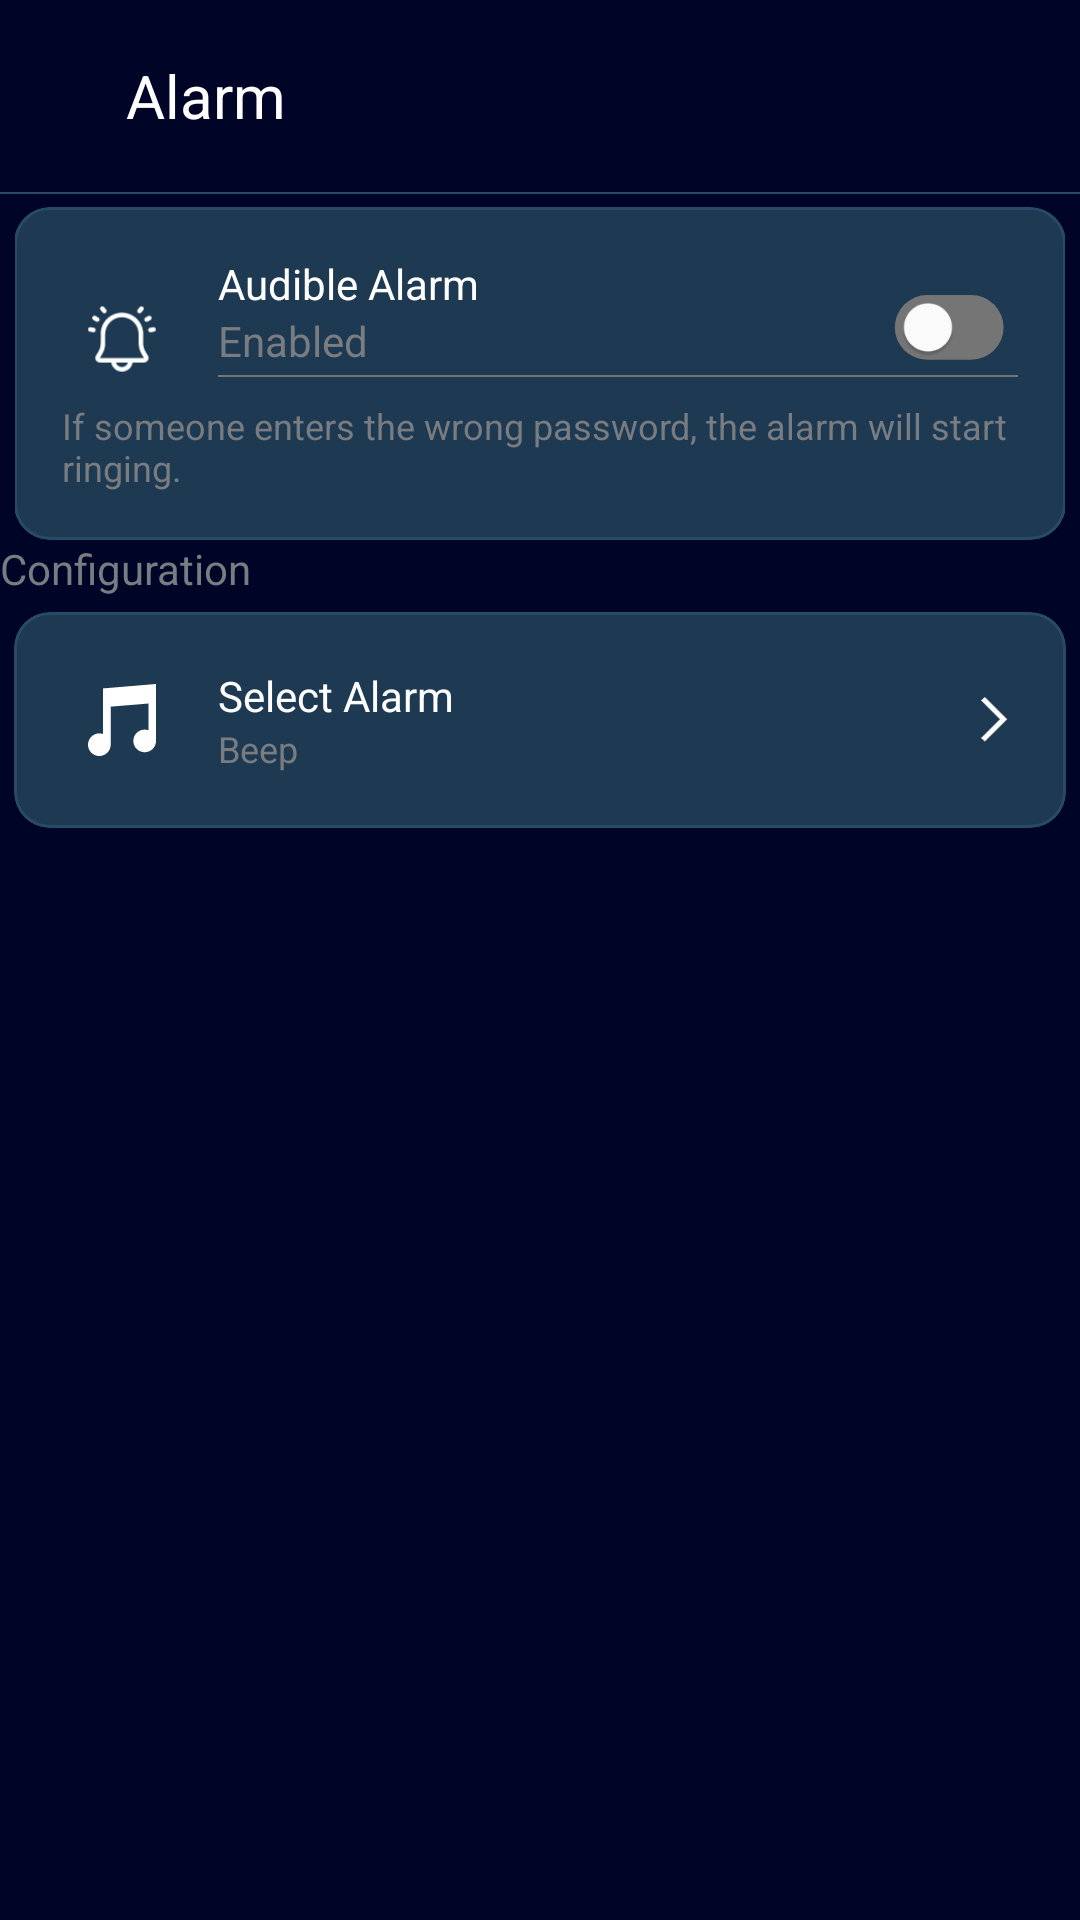

Point at icon controls on the screen. Image size 1080px×1920px, points as [x,y].
alram: [122,339]
musicicon: [122,720]
nexticon: [994,719]
